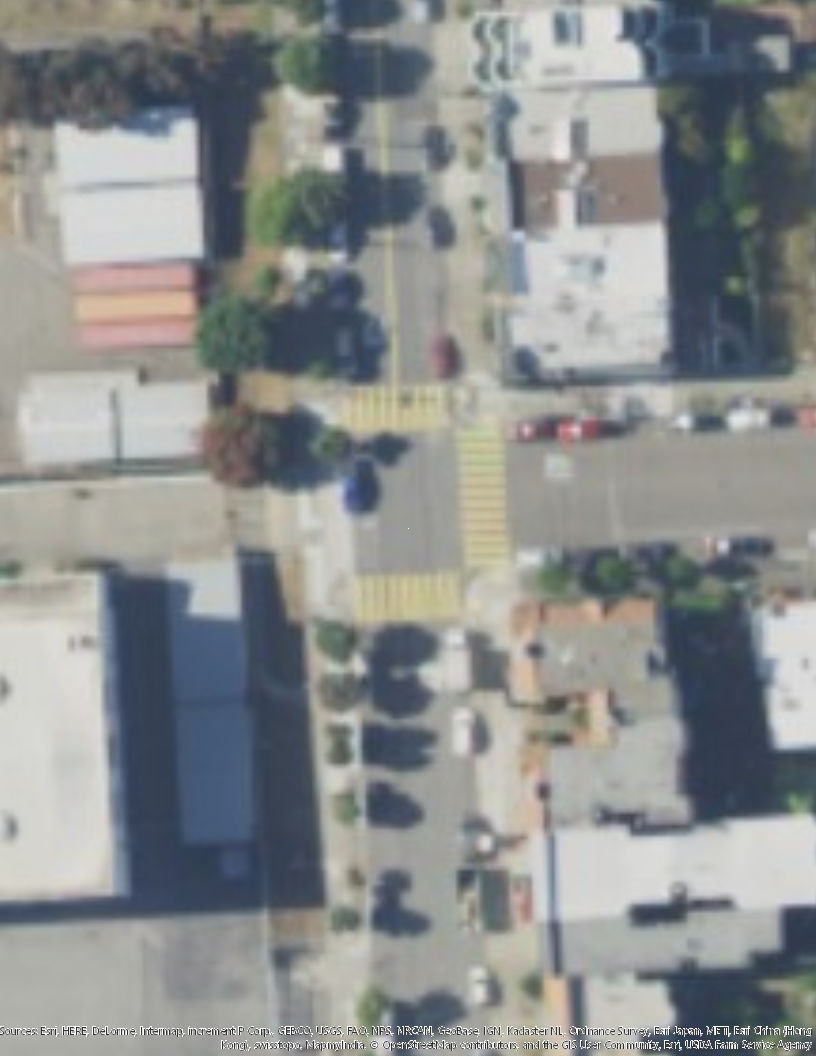zebracross: (456, 427, 514, 567), (349, 568, 464, 621), (342, 386, 451, 428)
